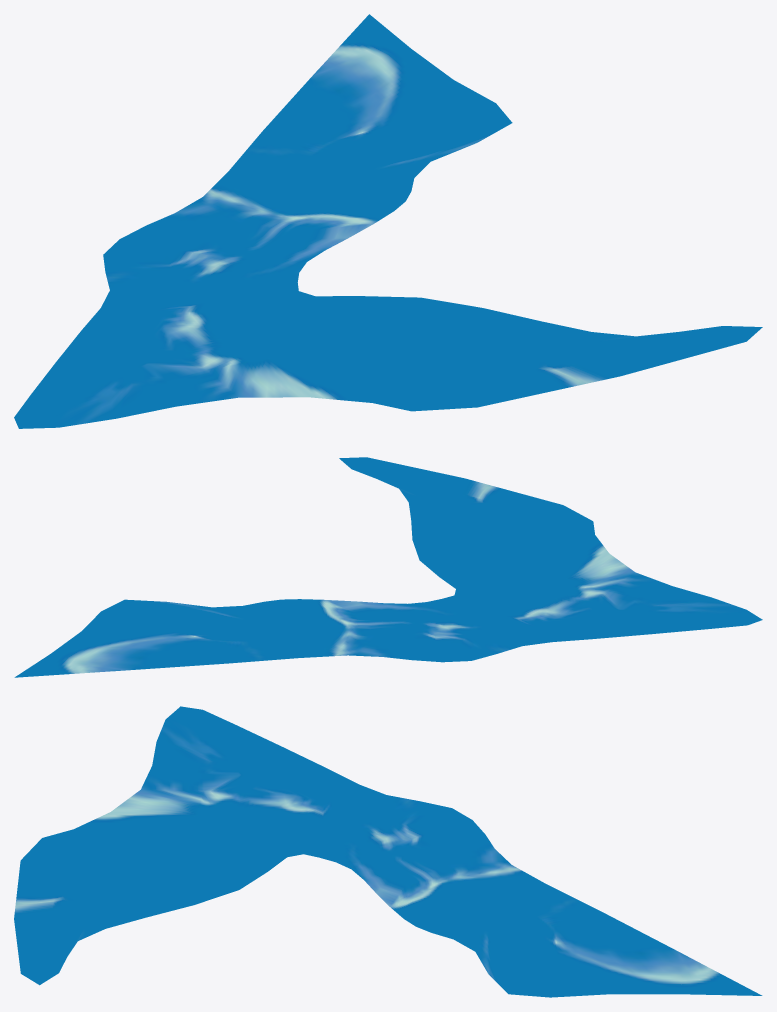
The model's file is chengshiditu_shui01.FBX.
The picture shows the model from 3 angles, top to bottom: view 1: azimuth 30°, elevation 25°; view 2: azimuth 150°, elevation 25°; view 3: azimuth 270°, elevation 25°; orthographic projection. The views are drawn at different scales.
Parts seen in each view (by area): view 1: Line001; view 2: Line001; view 3: Line001.
Part boxes in pixels (x1,y1,x2,y2): Line001: (14, 14, 762, 428); Line001: (14, 457, 762, 677); Line001: (14, 706, 762, 997).
Size of the model in its own units: 613 by 1.99e-13 by 666.
